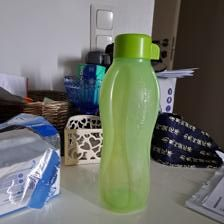bottle: (93, 31, 164, 214)
